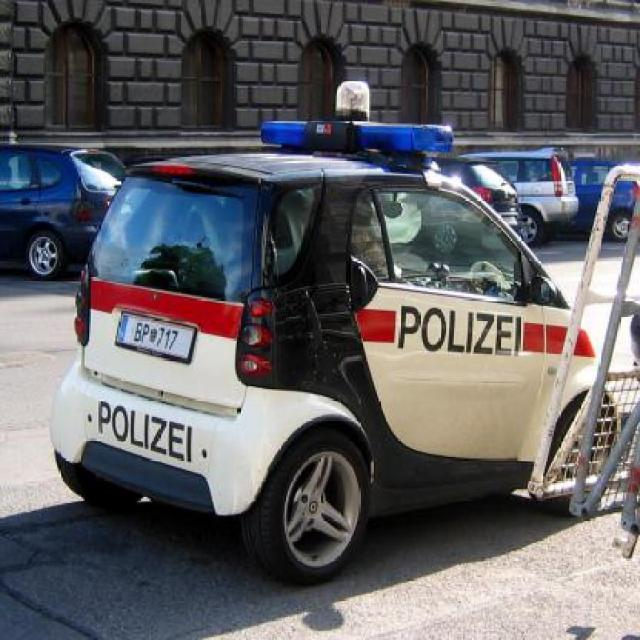License-Plates: (110, 298, 197, 374)
